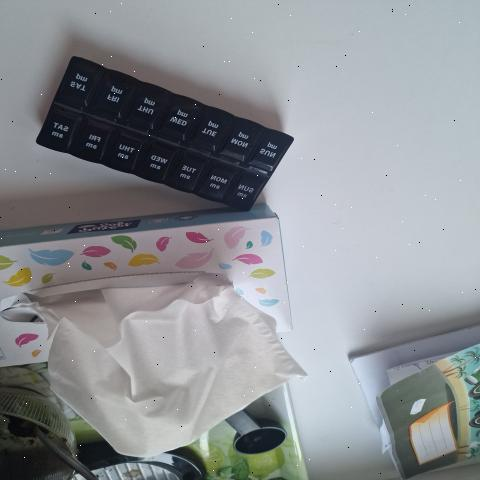PillBox: (24, 55, 317, 220)
